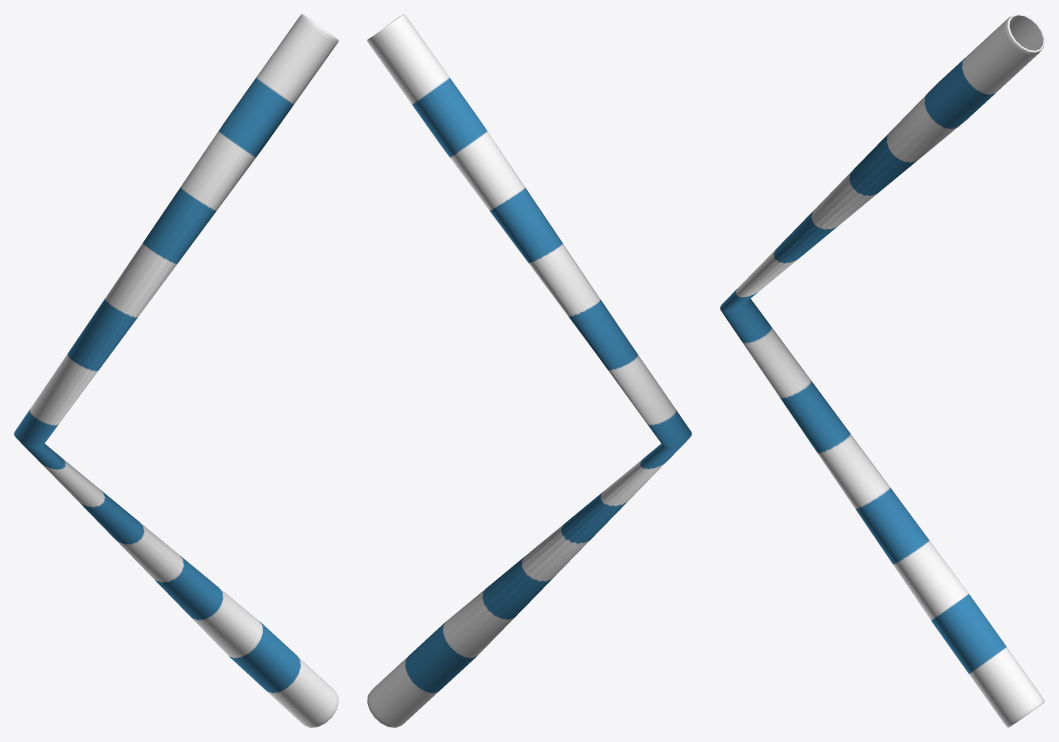
Rendered from Pitillo_doblado.glb.
The picture shows the model from 3 angles, left to right: view 1: azimuth 30°, elevation 25°; view 2: azimuth 150°, elevation 25°; view 3: azimuth 330°, elevation 25°; orthographic projection.
Visible parts, largest first — view 1: Pitillo_doblado; view 2: Pitillo_doblado; view 3: Pitillo_doblado.
Part boxes in pixels (left/top/right/bottom): Pitillo_doblado: left=14, top=14, right=338, bottom=727; Pitillo_doblado: left=367, top=14, right=691, bottom=727; Pitillo_doblado: left=720, top=14, right=1044, bottom=727.
Bounding box in the file's own units: 5.76 × 12.38 × 0.7414.
Materials: 1 (1 with a texture image).
